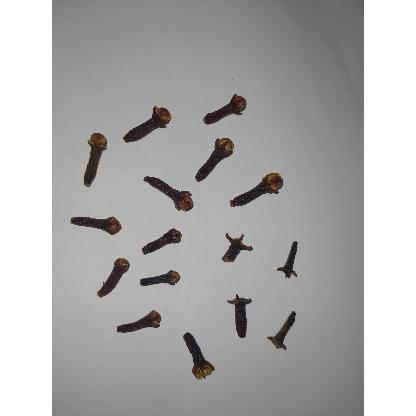baik: (194, 136, 236, 184), (230, 172, 285, 208), (143, 176, 194, 214), (123, 105, 171, 145), (203, 94, 248, 126), (83, 133, 107, 189)
buruk: (183, 334, 215, 381), (267, 312, 296, 353), (227, 293, 252, 338), (222, 233, 252, 264), (277, 240, 298, 280)
sedang: (97, 258, 130, 298), (116, 311, 162, 335), (142, 228, 182, 255), (70, 217, 121, 236), (140, 270, 181, 287)
